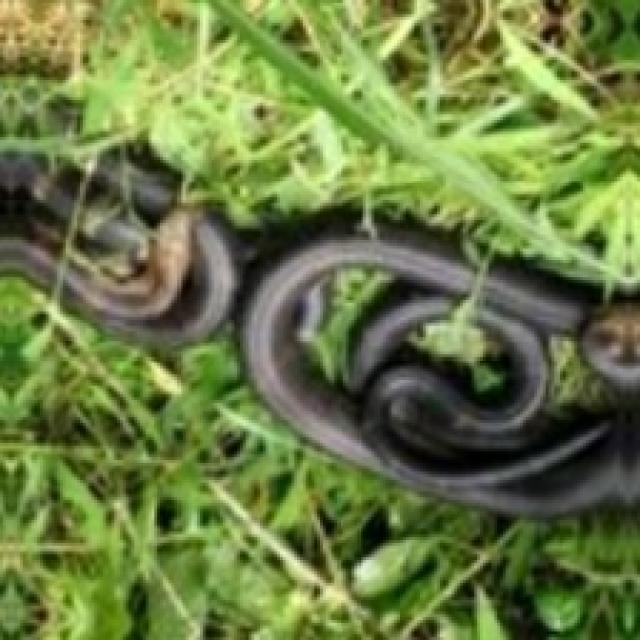king cobra: (0, 134, 637, 514)
